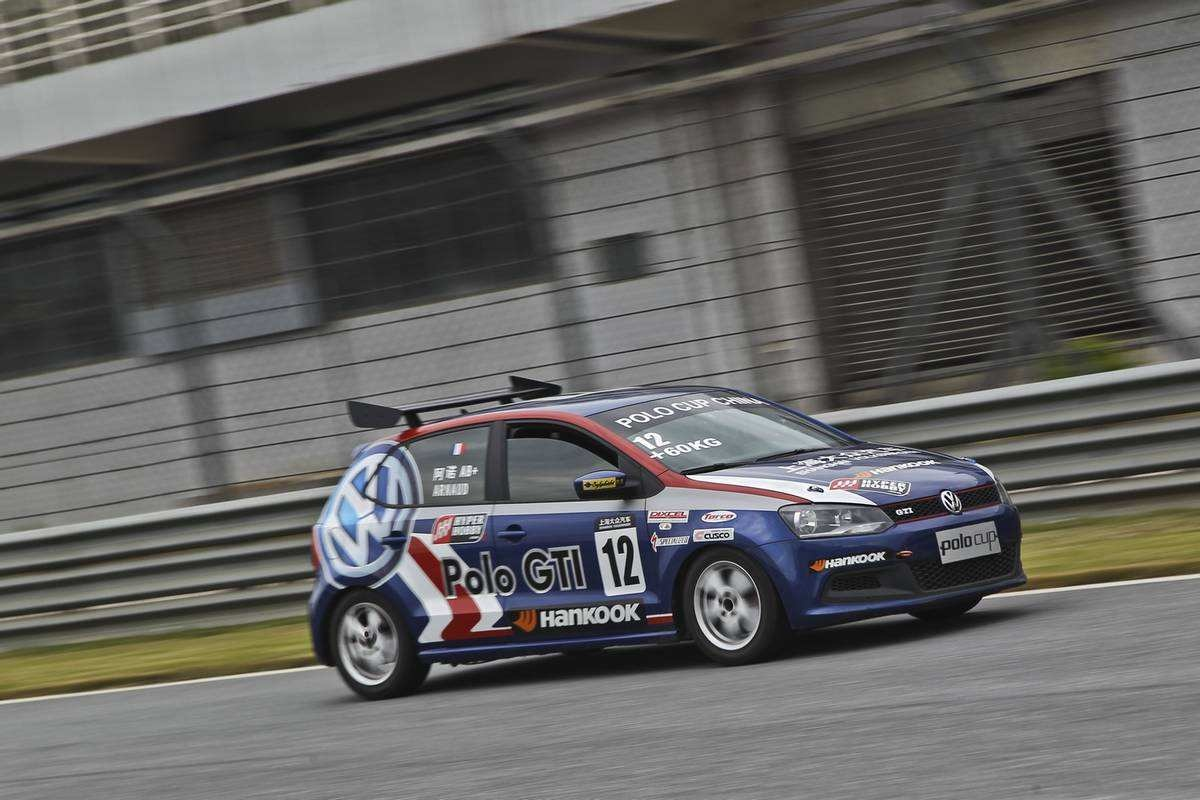racing car: (314, 367, 1020, 678)
